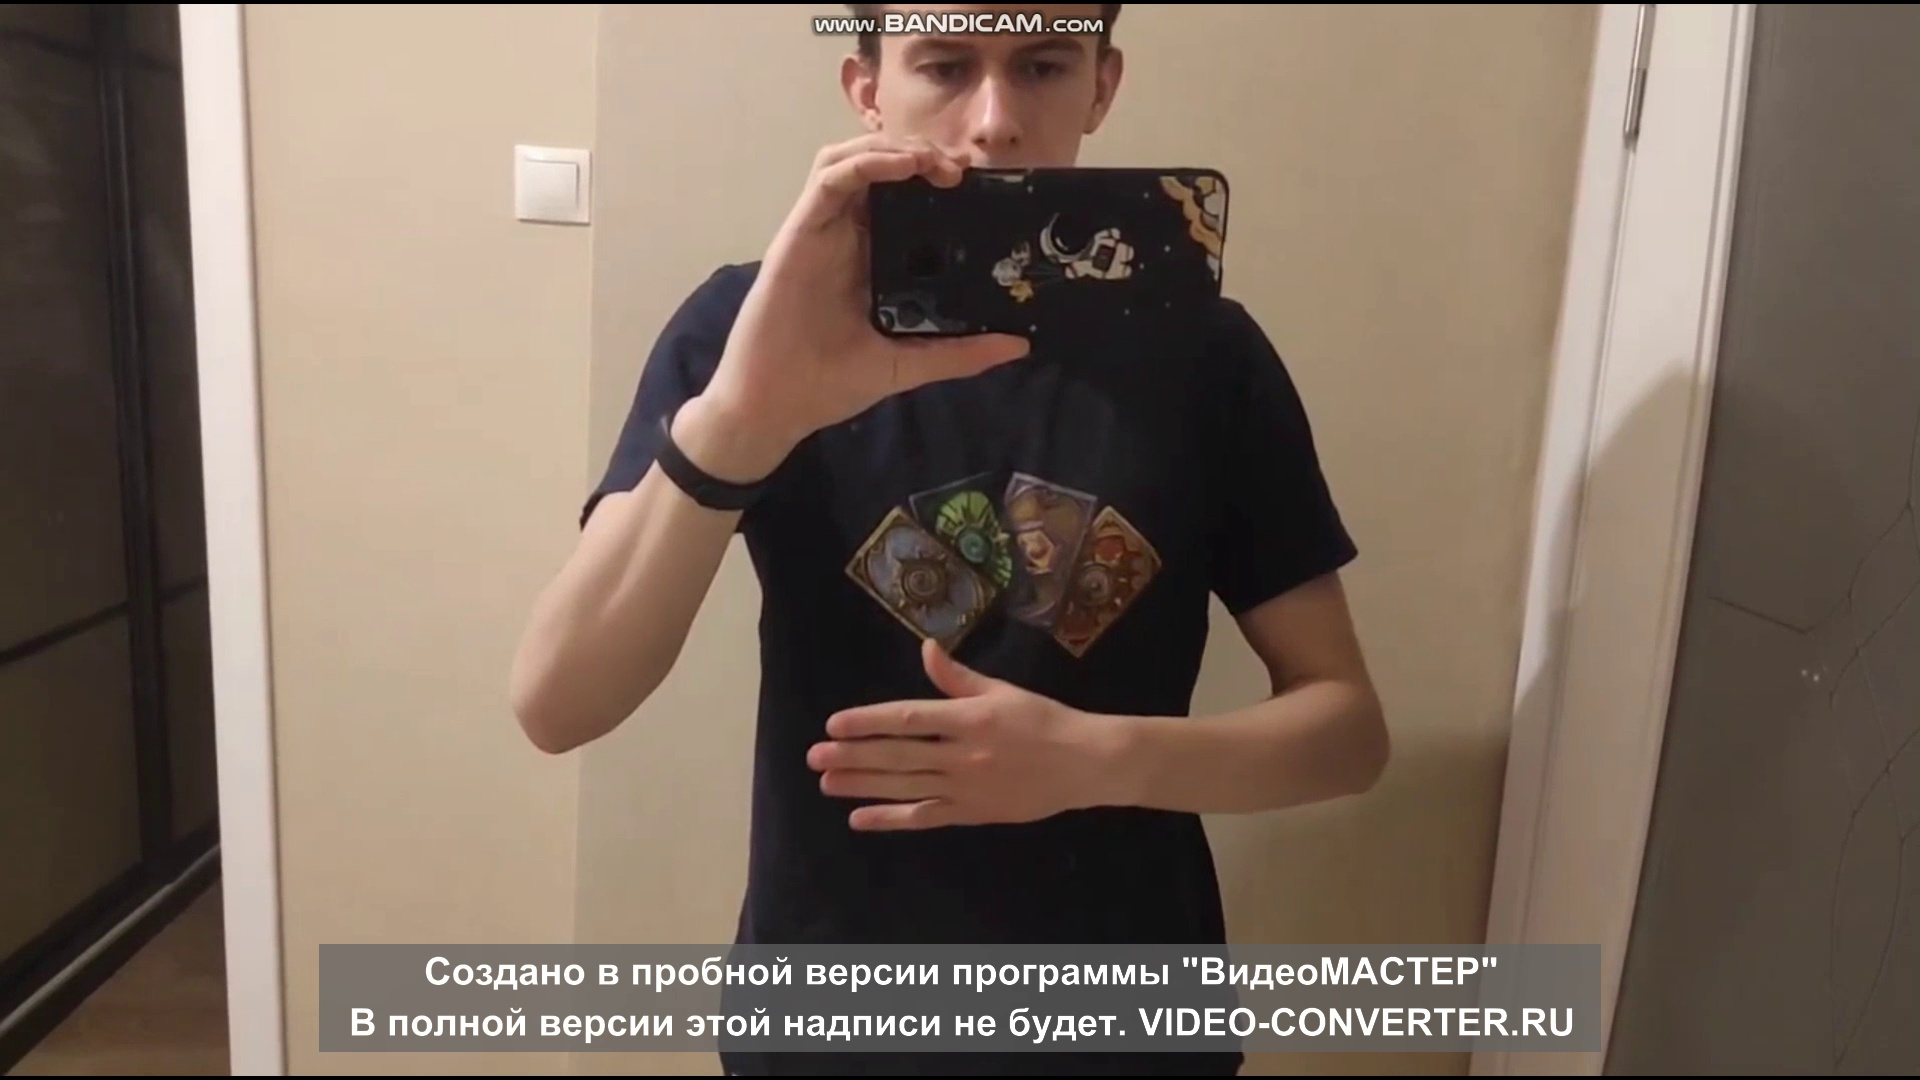Кисть: (799, 632, 1108, 839)
